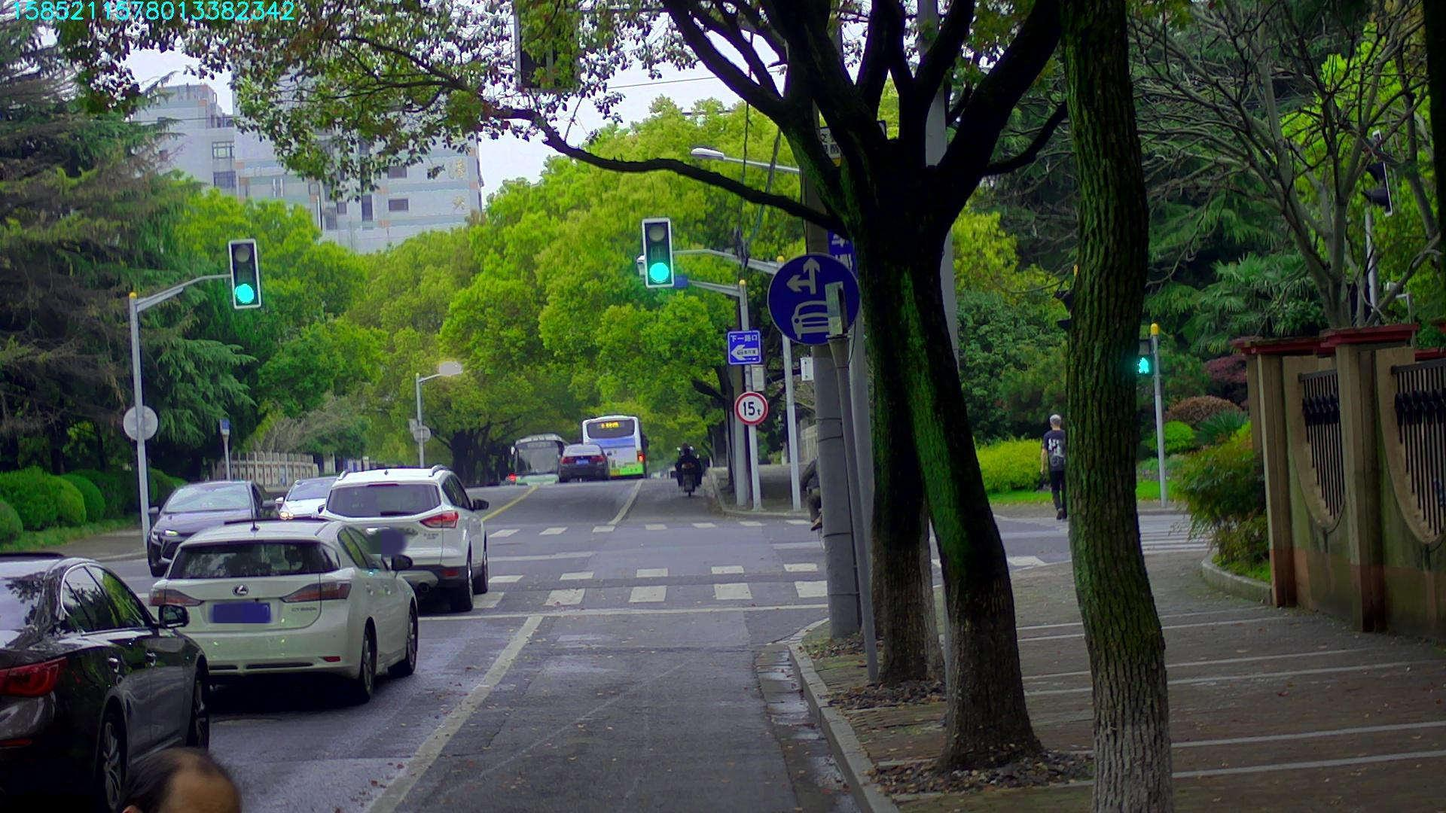green: (642, 219, 673, 286), (229, 241, 259, 306)
